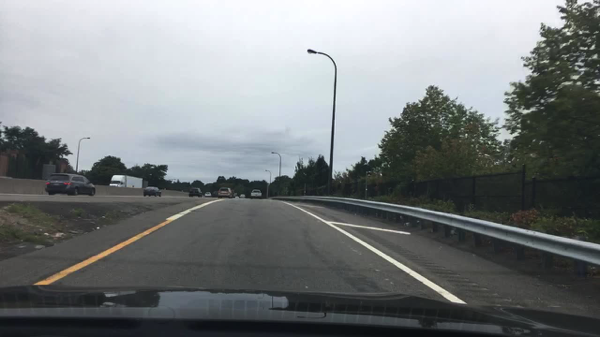car: (45, 172, 96, 198), (109, 175, 143, 191), (143, 186, 164, 198), (187, 187, 202, 197), (218, 189, 233, 199), (249, 189, 264, 198), (0, 176, 17, 182), (232, 191, 239, 200), (213, 191, 221, 198), (204, 191, 211, 198), (239, 193, 246, 198)
